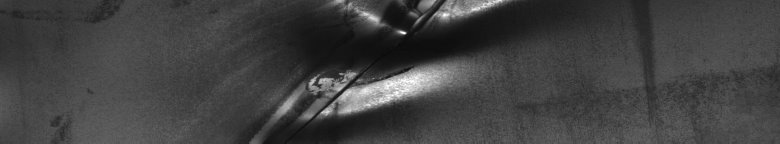ke: (271, 4, 505, 128)
